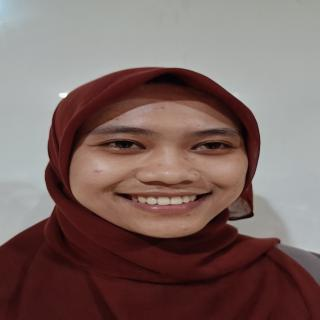Senang: (58, 87, 258, 241)
